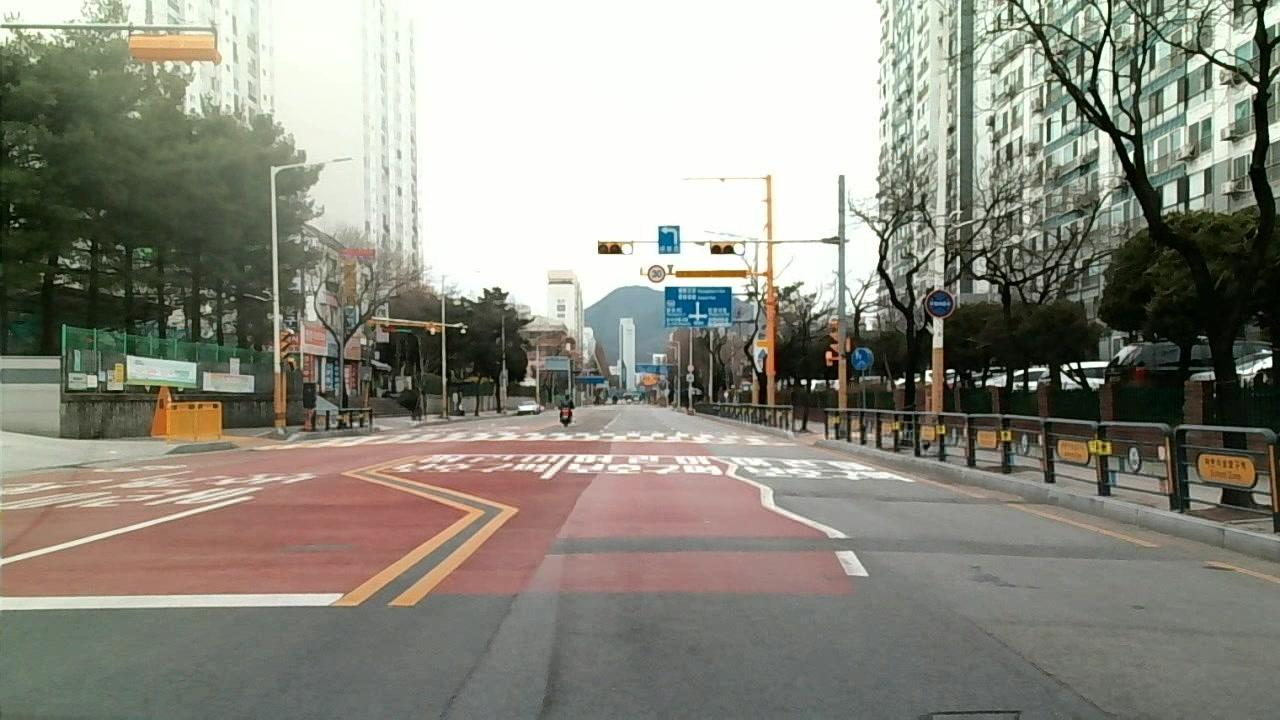banner: (123, 354, 199, 389), (203, 366, 257, 395)
erosion: (973, 563, 1045, 596)
vcrack: (963, 620, 1121, 719), (438, 600, 517, 719)
